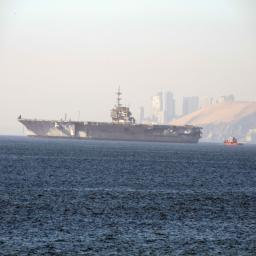Portanaves: (17, 86, 205, 146)
